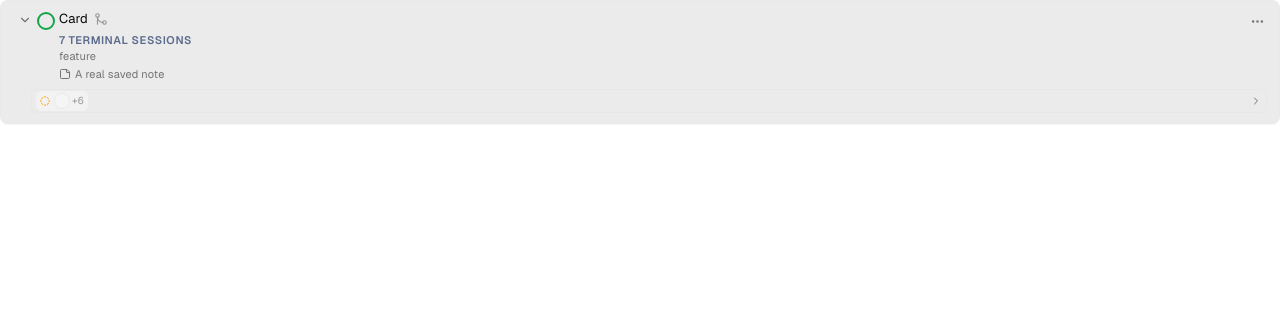
Test: a long fan-out folds into the compact pill, which expands the real selectable rows
This screenshot has width=1280, height=325.
What coordinates should you click on to do the following:
click the button named "Expand 6 agents"
I would click on:
 (62, 101)
Its box is [31,89,1267,113].
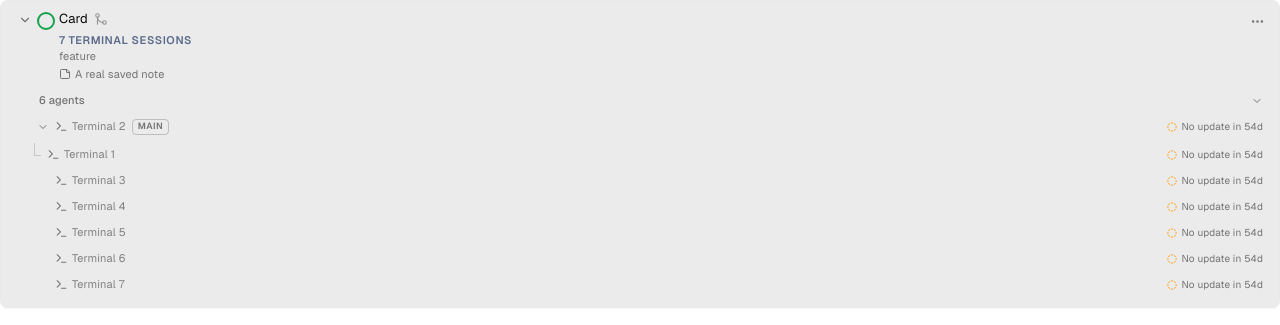
Expected: the button named "Expand 6 agents" is expanded, [31,89,1267,113]
